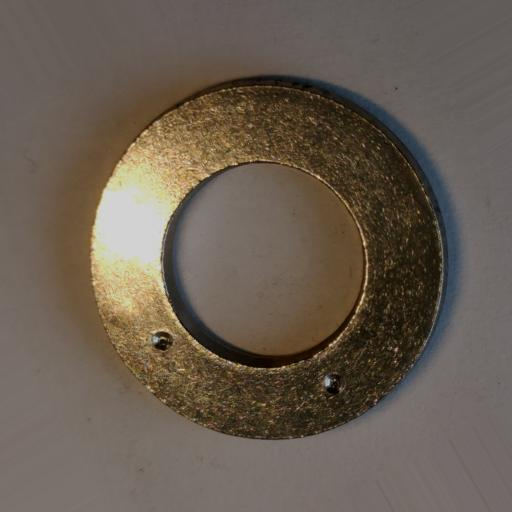circular_cavity: (152, 332, 173, 352), (324, 377, 343, 396)
